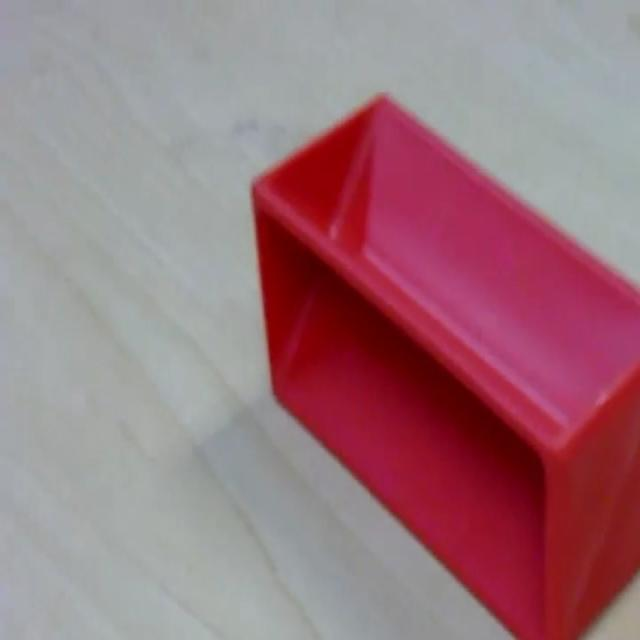red_block: (249, 89, 639, 636)
